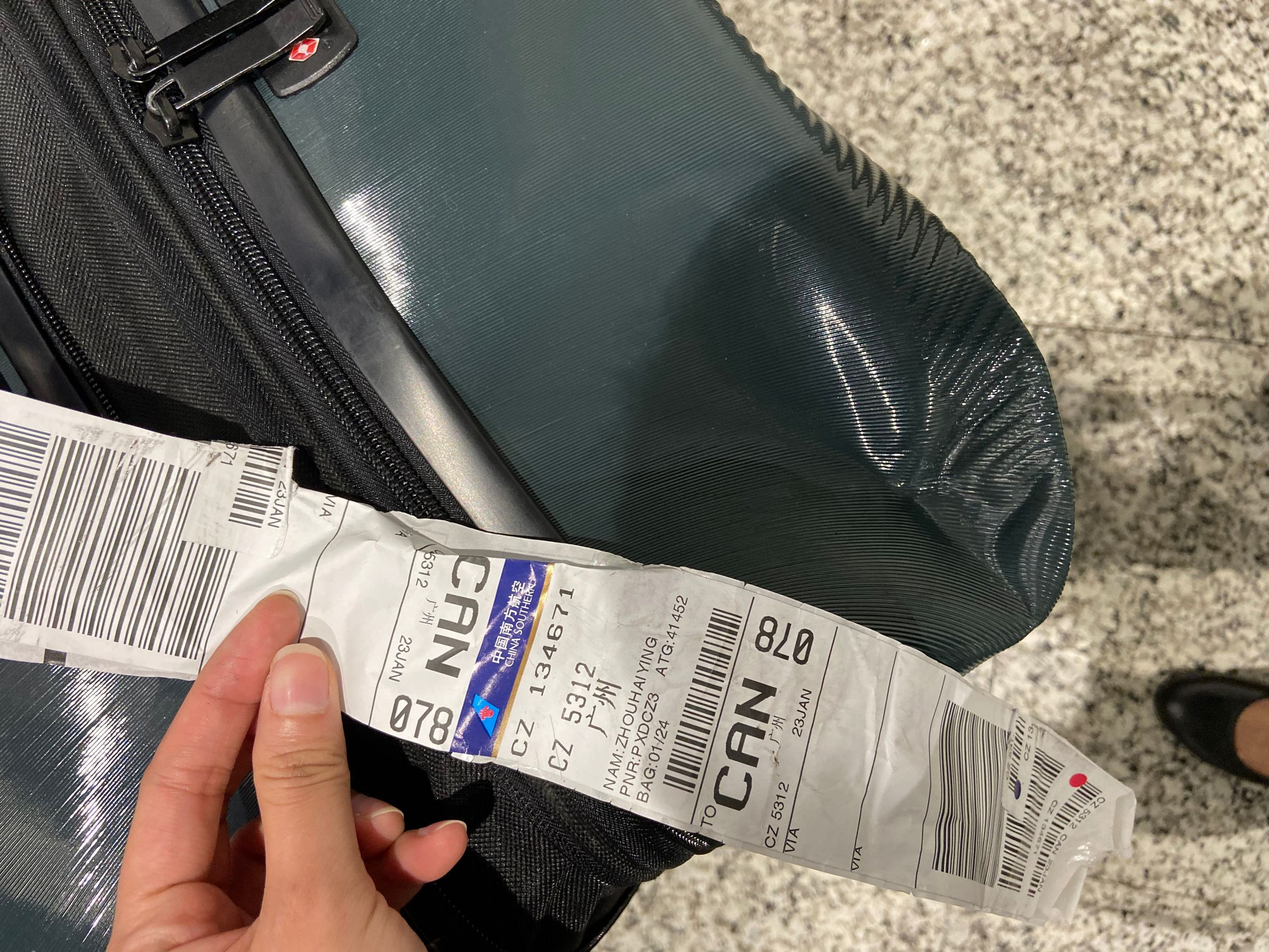hollow: (771, 224, 1077, 653)
